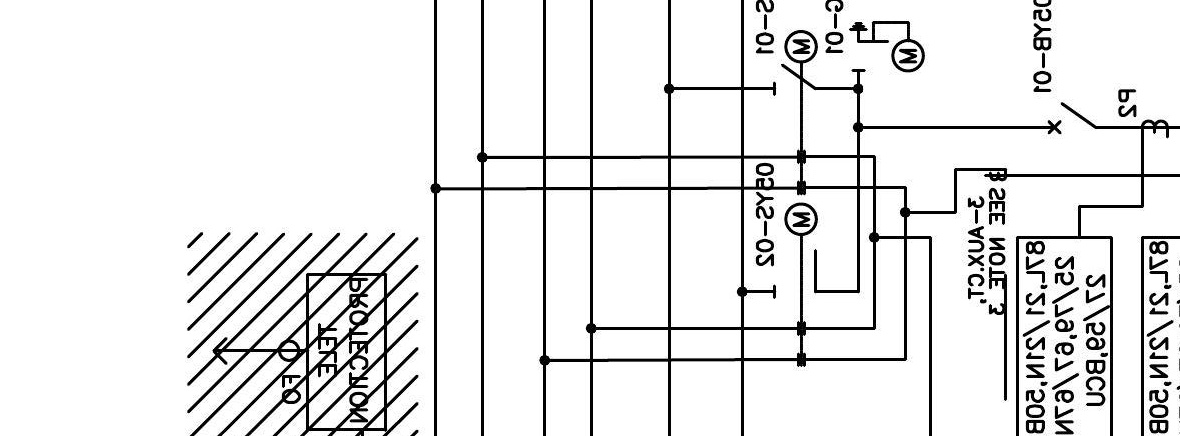115_1way_ds_w_motor: (772, 202, 819, 300), (772, 29, 820, 97)
115_breaker: (1047, 101, 1097, 135)
115_gs_w_motor: (848, 20, 926, 73)
tele_protection: (304, 270, 390, 433)
